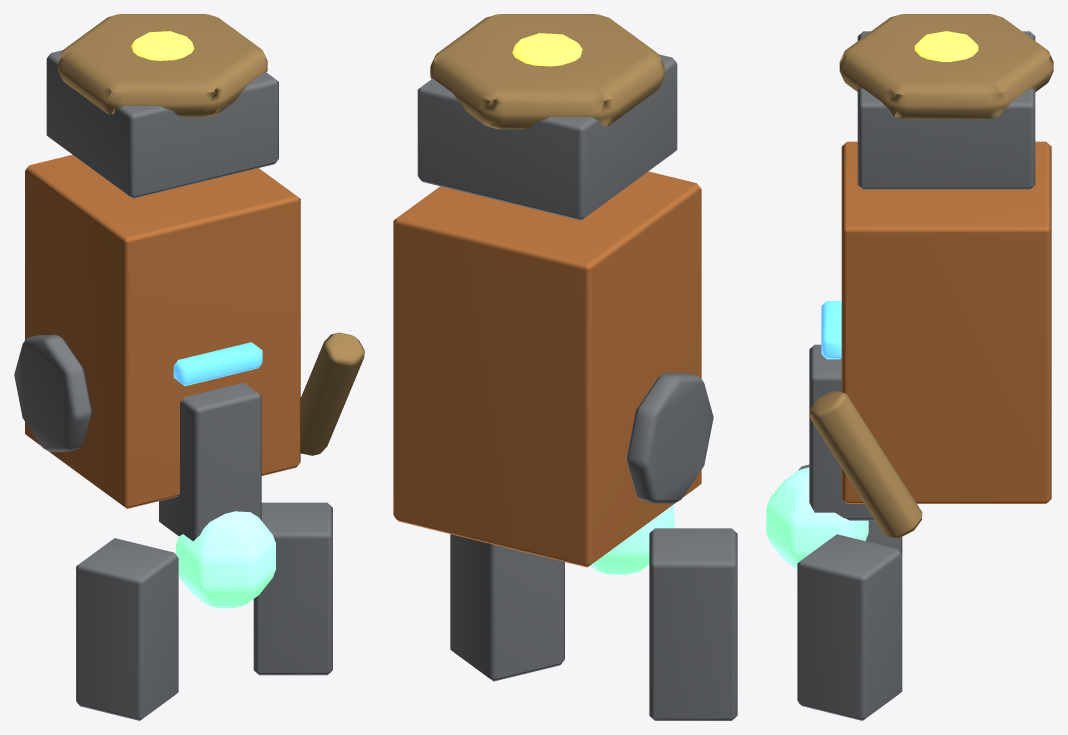
File: cobble_sons_arm_mendclaw_no7.glb
3 renders of one model, left to right at view 1: azimuth 30°, elevation 25°; view 2: azimuth 150°, elevation 25°; view 3: azimuth 270°, elevation 25°, orthographic. The views are drawn at different scales.
Parts seen in each view (by area): view 1: cobble_sons_arm_mendclaw_no7; view 2: cobble_sons_arm_mendclaw_no7; view 3: cobble_sons_arm_mendclaw_no7.
Boxes of the visible parts, x1,y1,x2,y2 form: cobble_sons_arm_mendclaw_no7: (14,14,364,720); cobble_sons_arm_mendclaw_no7: (393,14,737,720); cobble_sons_arm_mendclaw_no7: (766,14,1053,720).
Bounding box in the file's own units: 0.3922 × 0.8425 × 0.3558.
1 material, 1 textured.
